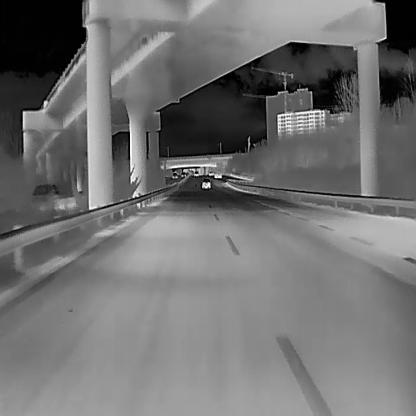car: (201, 178, 210, 188), (215, 168, 221, 177), (172, 172, 178, 178), (207, 171, 214, 176), (194, 170, 199, 175), (180, 172, 185, 176)
